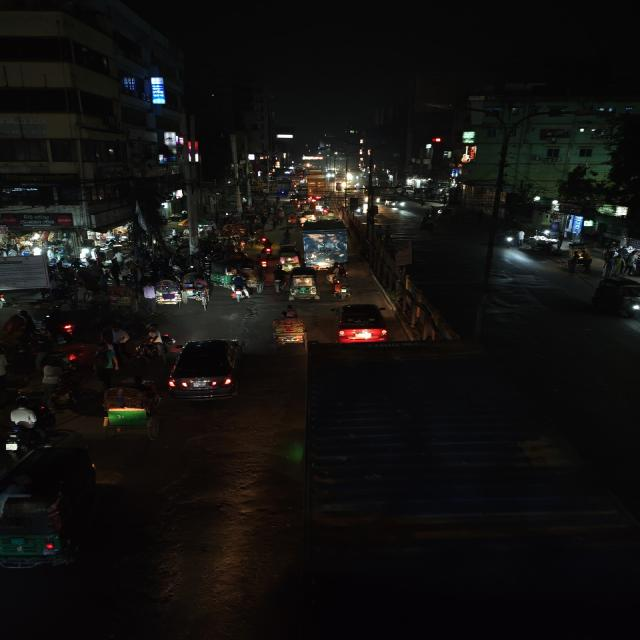car: (164, 336, 248, 404), (330, 302, 390, 342)
cng: (0, 439, 101, 578), (591, 274, 640, 320), (207, 256, 258, 288), (286, 265, 320, 301), (277, 246, 301, 266)
motorcycle: (7, 394, 41, 460), (128, 326, 176, 363), (329, 271, 354, 300), (227, 275, 251, 303), (270, 270, 286, 296), (260, 238, 276, 258)
pedestrian: (38, 362, 70, 398), (91, 345, 121, 381), (0, 342, 15, 398)
rickshaw: (94, 380, 163, 440), (268, 306, 310, 346), (141, 277, 186, 309), (178, 271, 214, 305)
truck: (303, 338, 638, 640), (299, 219, 352, 267)
